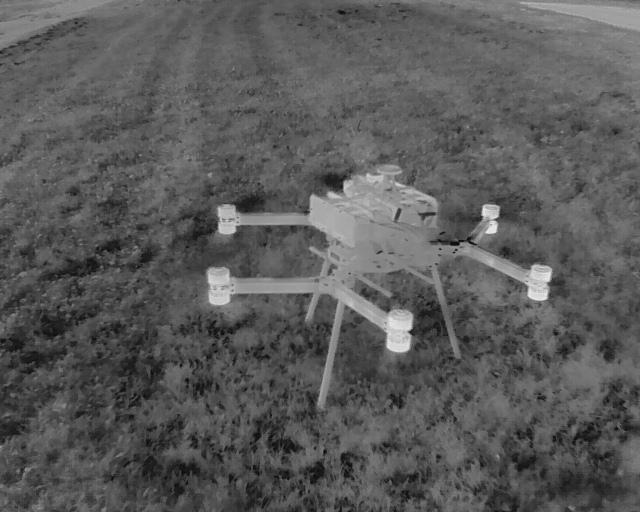drone: (204, 141, 555, 432)
